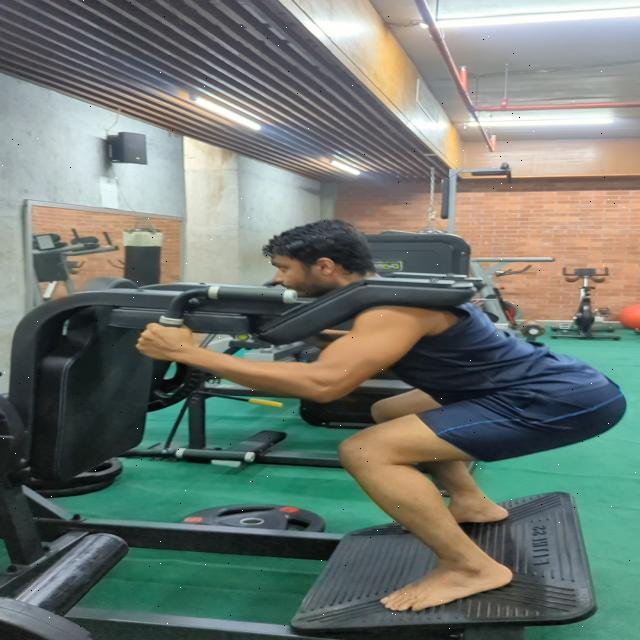Normal_SquatsWithBarbell: (146, 179, 640, 625)
